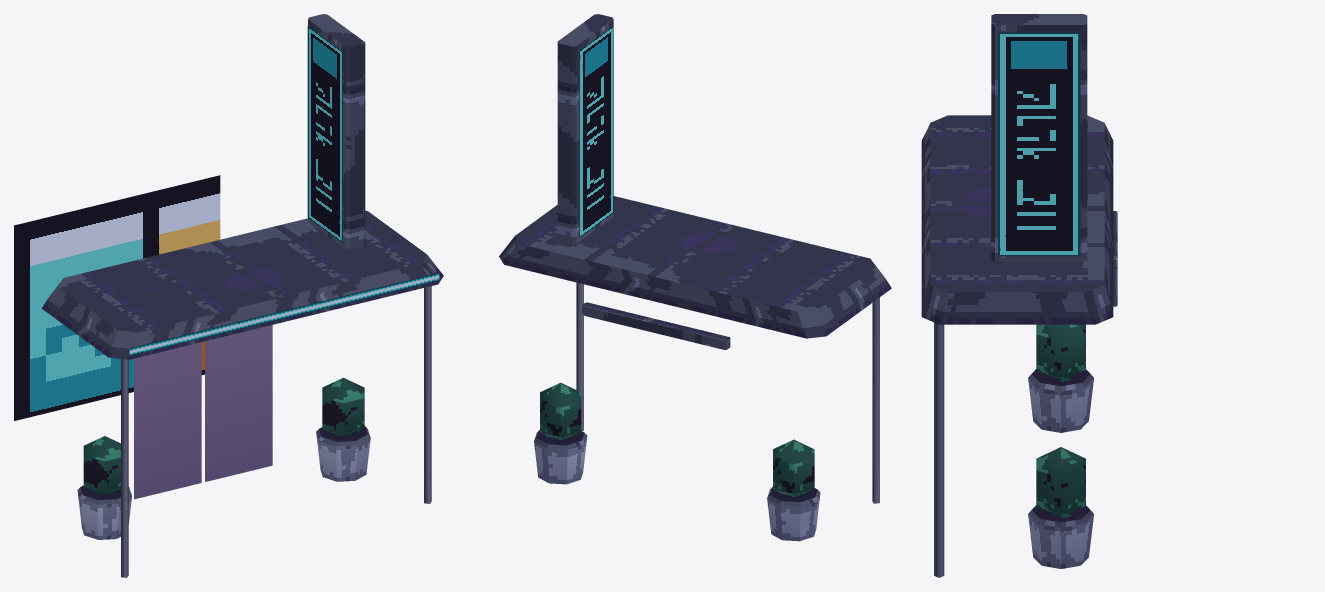
File: cysign.hotel.glb
3 views of the same model, side by side, from view 1: azimuth 30°, elevation 25°; view 2: azimuth 150°, elevation 25°; view 3: azimuth 270°, elevation 25° (orthographic). The views are drawn at different scales.
Visible parts, largest first — view 1: kit_card_cards, kit_canopy, kit_posts; view 2: kit_canopy, kit_posts, kit_card_cards; view 3: kit_canopy, kit_card_cards, kit_posts.
Boxes of the visible parts, box(x1,y1,x2,y2) form: kit_card_cards: box(14, 26, 439, 499); kit_canopy: box(41, 14, 443, 539); kit_posts: box(83, 286, 431, 577); kit_canopy: box(499, 14, 891, 541); kit_posts: box(540, 282, 879, 503); kit_card_cards: box(579, 26, 613, 237); kit_canopy: box(921, 14, 1117, 568); kit_card_cards: box(998, 32, 1080, 256); kit_posts: box(934, 322, 1085, 577).
Size of the model in its own units: 5.2 by 6.7 by 4.49.
Materials: 11 (9 with a texture image).
